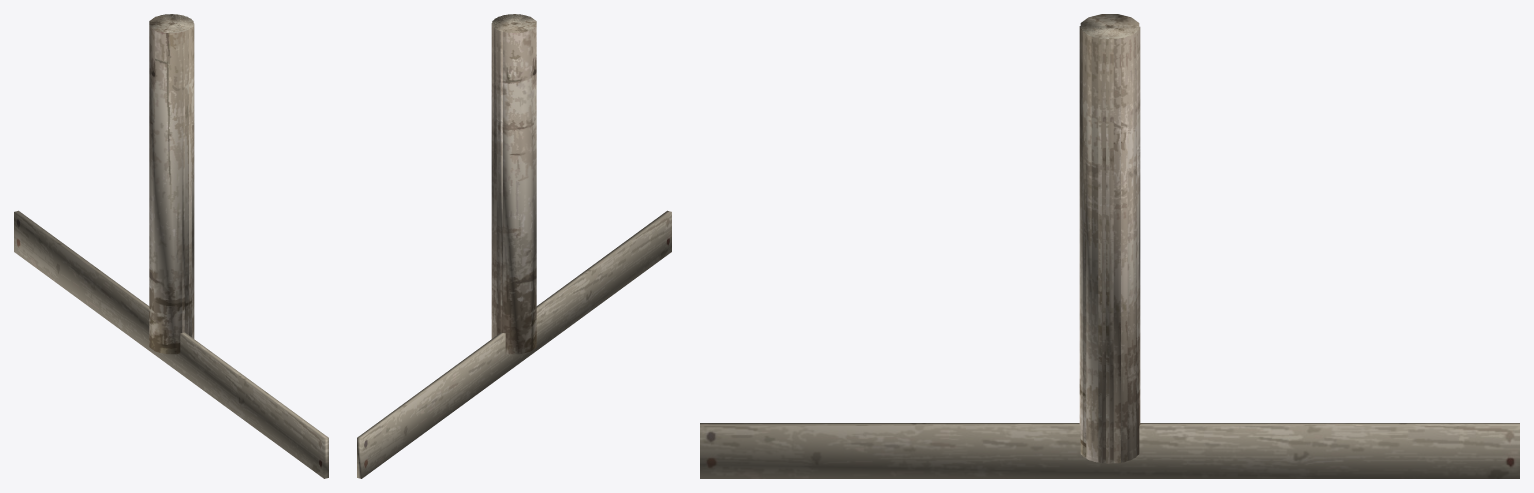
The model's file is phx_woodfence2.fbx.
3 renders of one model, left to right at view 1: azimuth 30°, elevation 25°; view 2: azimuth 150°, elevation 25°; view 3: azimuth 270°, elevation 25°, orthographic. The views are drawn at different scales.
Visible parts, largest first — view 1: Roundpole, Longboard 4, Half Roundpole; view 2: Roundpole, Longboard 4, Half Roundpole; view 3: Longboard 4, Half Roundpole, Roundpole.
Boxes of the visible parts, x1,y1,x2,y2 form: Roundpole: [149, 14, 193, 354]; Longboard 4: [14, 210, 328, 478]; Half Roundpole: [160, 14, 194, 338]; Roundpole: [492, 14, 536, 354]; Longboard 4: [357, 210, 671, 478]; Half Roundpole: [491, 14, 525, 338]; Longboard 4: [700, 423, 1519, 478]; Half Roundpole: [1079, 26, 1140, 463]; Roundpole: [1080, 14, 1139, 463].
Size of the model in its own units: 25.44 by 212 by 350.
